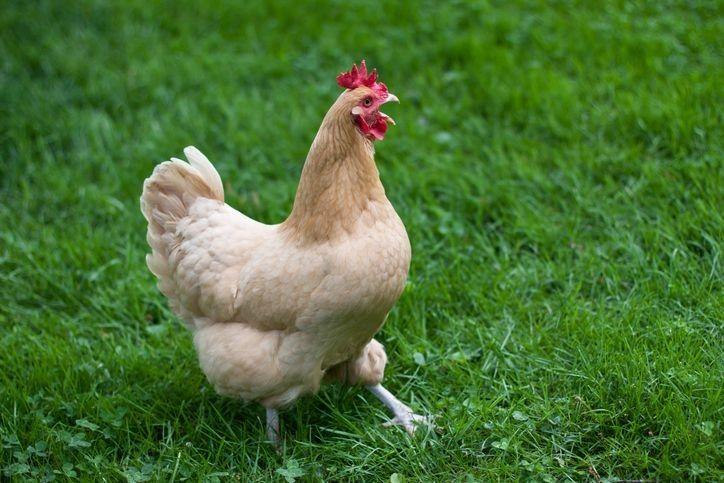chicken: (132, 57, 450, 453)
